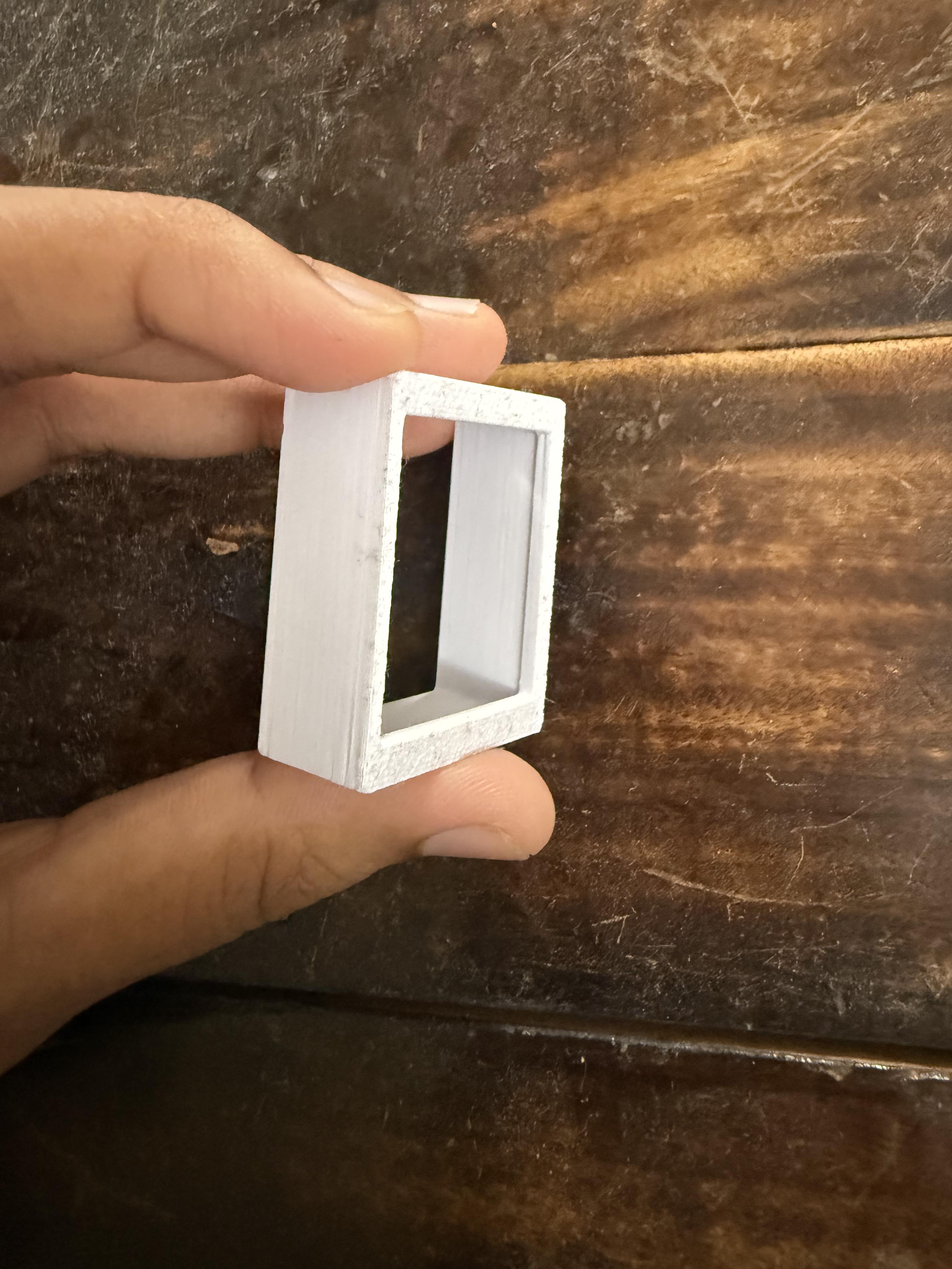enclosure: (257, 369, 567, 794)
